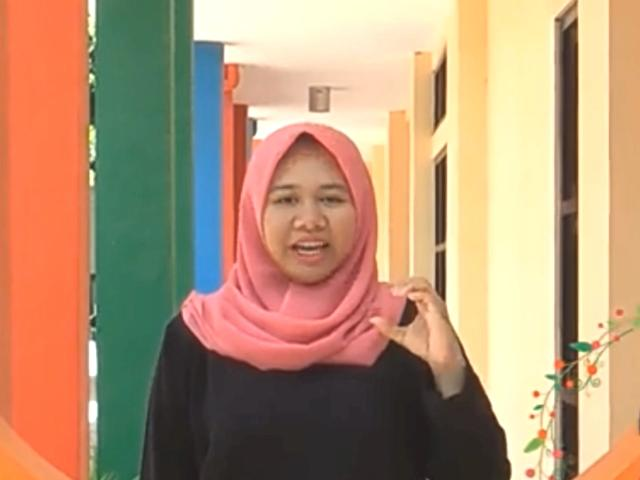C: (371, 276, 462, 370)
